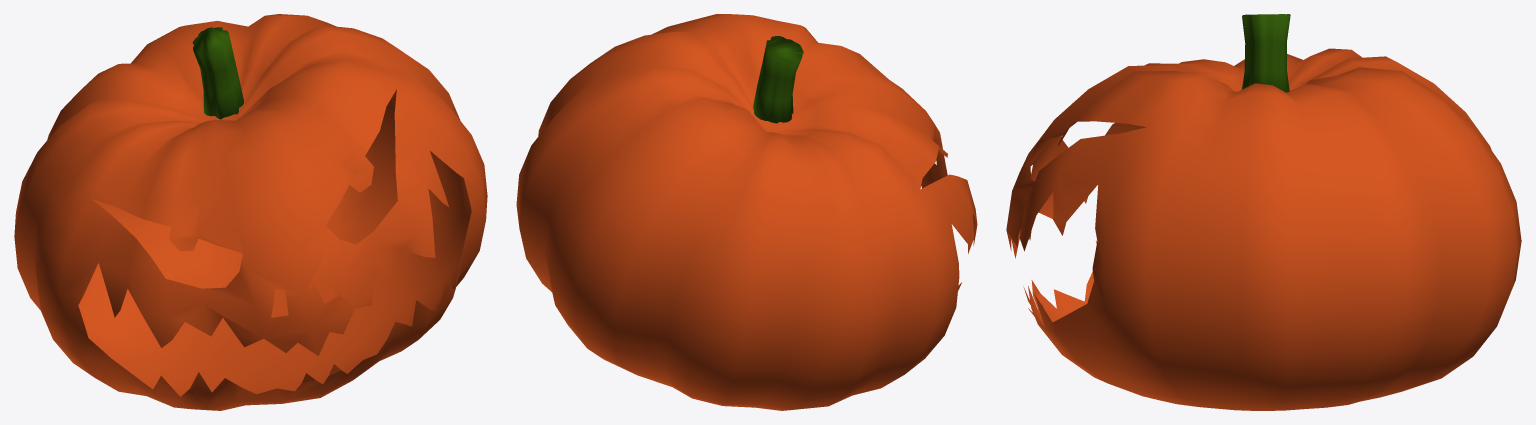
File: Pumpkins01- Halloween.fbx
3 renders of one model, left to right at view 1: azimuth 30°, elevation 25°; view 2: azimuth 150°, elevation 25°; view 3: azimuth 270°, elevation 25°, orthographic. The views are drawn at different scales.
Visible parts, largest first — view 1: Pumpkin Stem 1; view 2: Pumpkin Stem 1; view 3: Pumpkin Stem 1.
Boxes of the visible parts, bbox=[...] form: Pumpkin Stem 1: bbox=[14, 14, 487, 410]; Pumpkin Stem 1: bbox=[516, 14, 977, 410]; Pumpkin Stem 1: bbox=[1006, 14, 1521, 410].
Size of the model in its own units: 148 by 119 by 149.
